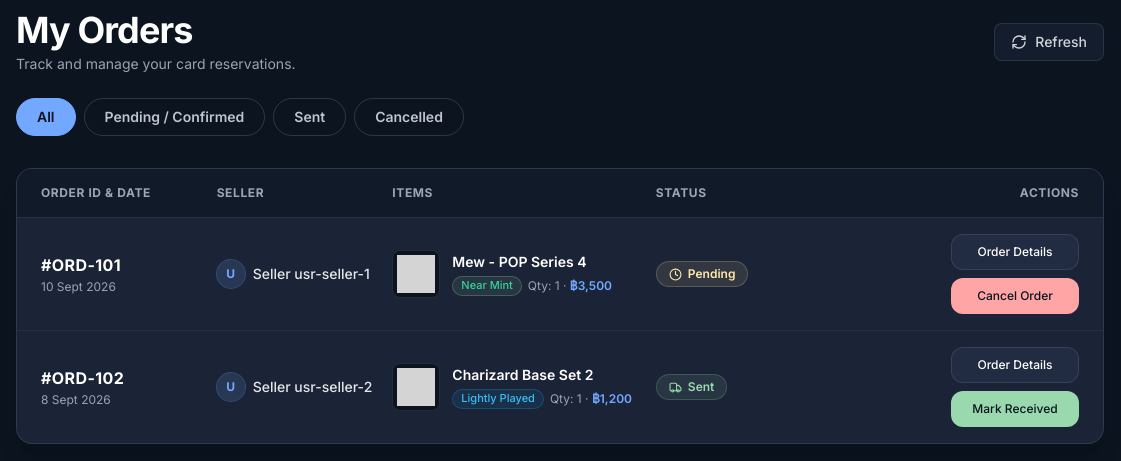
Scenario: MyOrdersPage (SCRUM-80) › filters orders by status tabs
The width and height of the screenshot is (1121, 461).
Expected: the text "#ORD-101" is shown, [41,255,121,275]
Filter by Sent
What coordinates should you click on to do the following:
click the button "Sent"
I would click on:
 (310, 117)
Its box is [273,98,346,136].
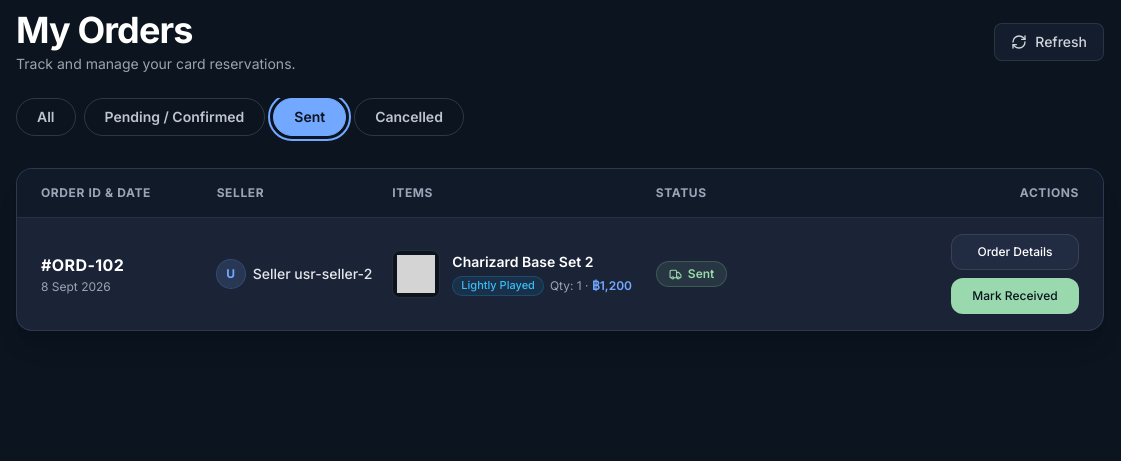
Expected: the text "#ORD-102" is shown, [41,255,124,275]
Expected: the button "#ORD-101" is gone
Filter by Cancelled (empty)
What coordinates should you click on to do the following:
click the button "Cancelled"
I would click on:
 (409, 117)
Its box is [354,98,464,136].
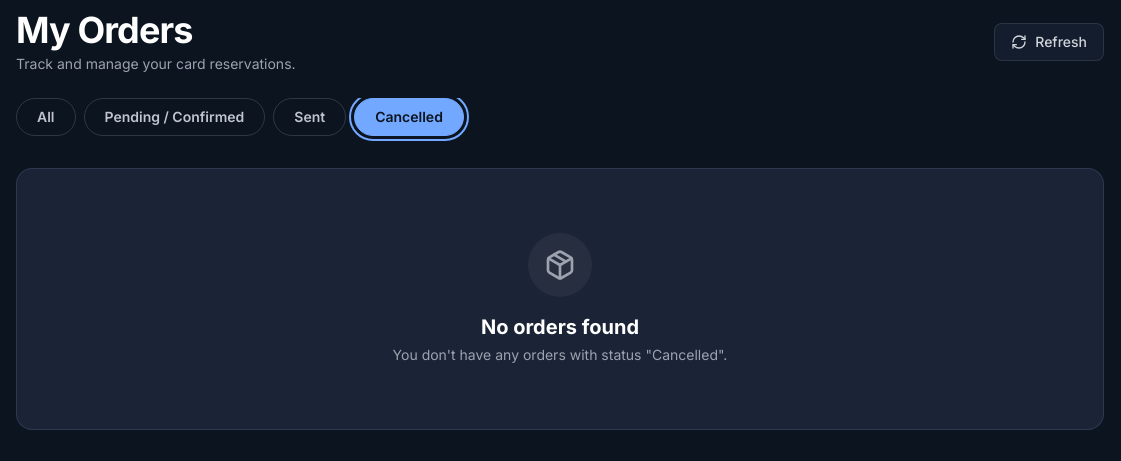
Expected: the heading "No orders found" is shown, [481,315,639,339]
